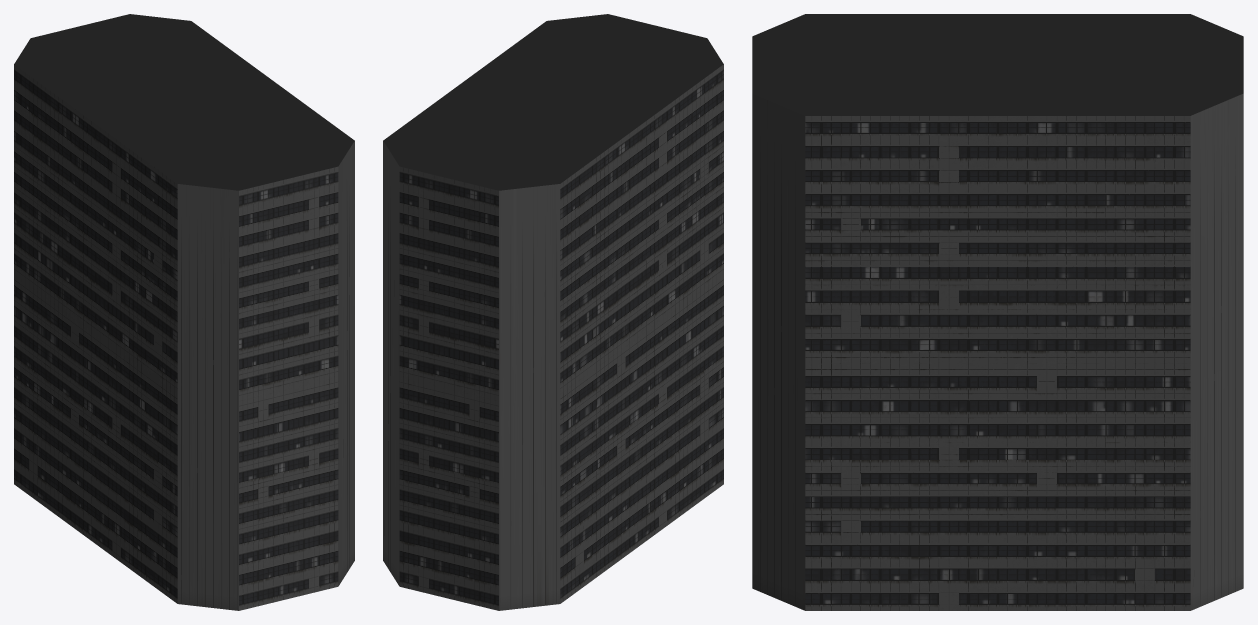
The model's file is Mesh_Residential-Big.fbx.
3 renders of one model, left to right at view 1: azimuth 30°, elevation 25°; view 2: azimuth 150°, elevation 25°; view 3: azimuth 270°, elevation 25°, orthographic. The views are drawn at different scales.
Parts seen in each view (by area): view 1: Mesh_Residential-Big; view 2: Mesh_Residential-Big; view 3: Mesh_Residential-Big.
Boxes of the visible parts, <box> form: Mesh_Residential-Big: <box>14,14,354,610</box>; Mesh_Residential-Big: <box>383,14,723,610</box>; Mesh_Residential-Big: <box>752,14,1243,610</box>.
Size of the model in its own units: 24.55 by 55.61 by 50.01.
